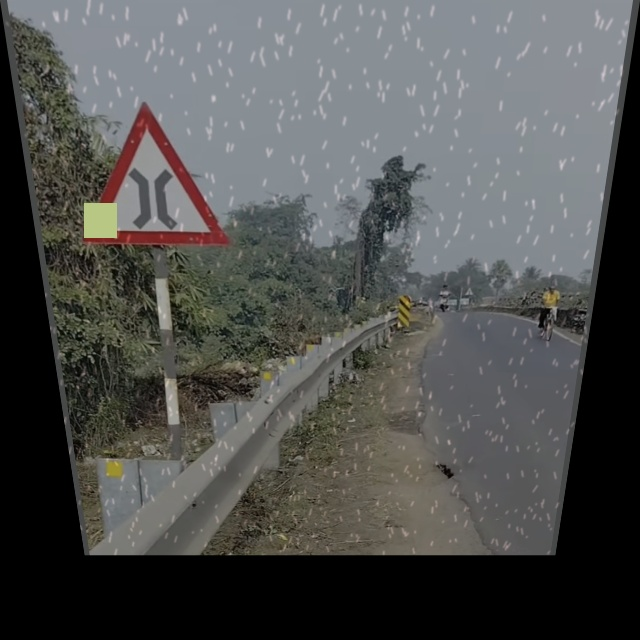Narrow_Bridge: (73, 106, 224, 241)
